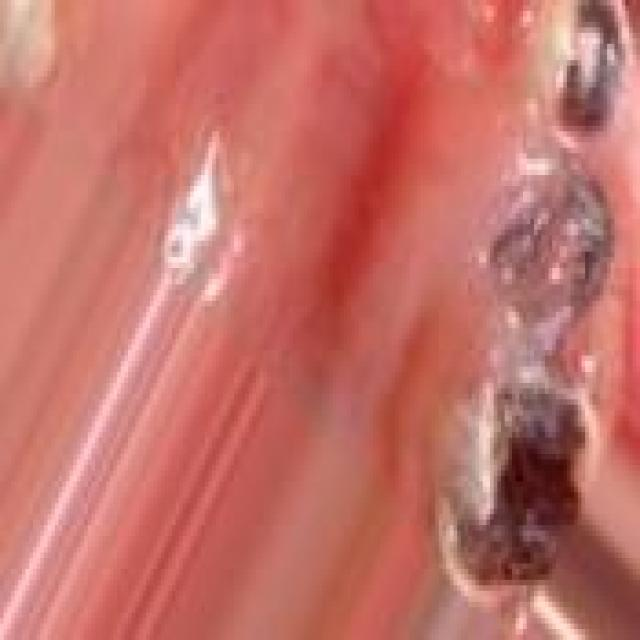caries: (421, 362, 608, 623), (467, 143, 614, 340), (520, 0, 636, 148)
